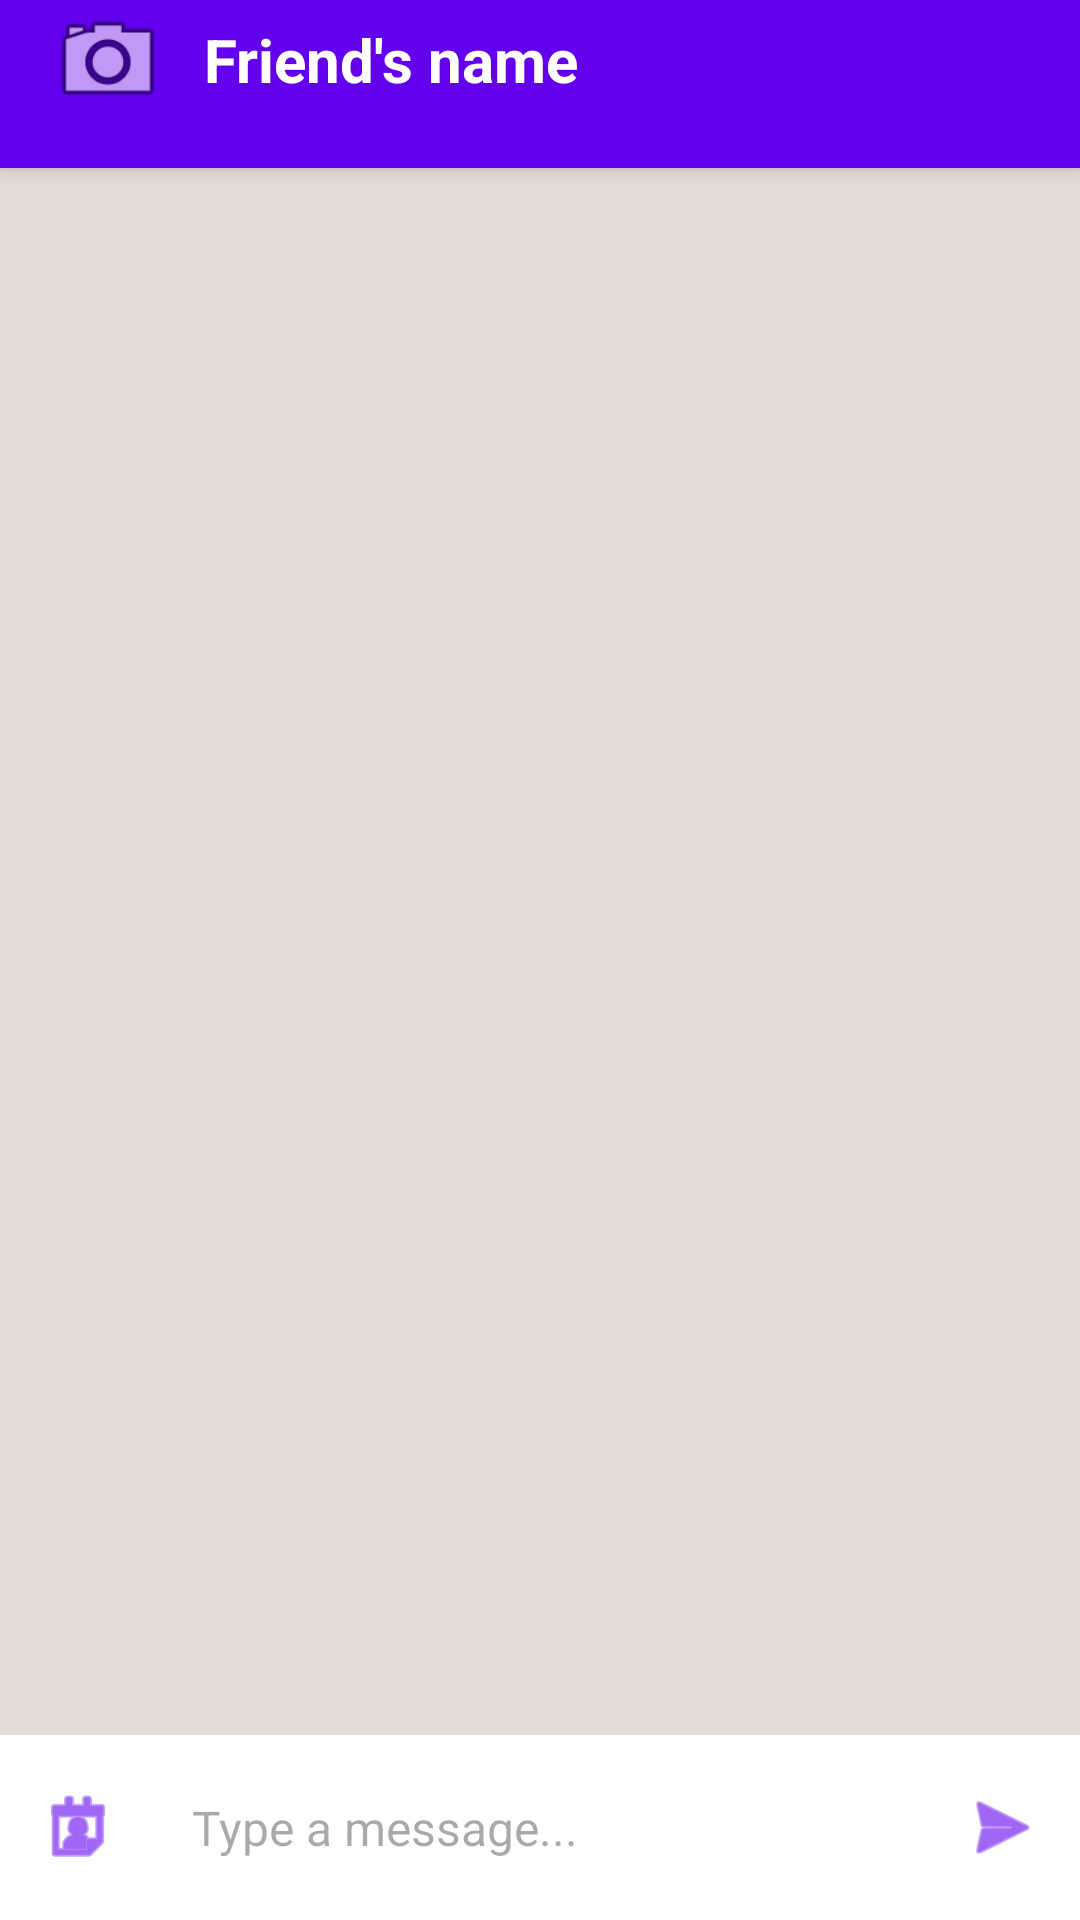

Named icons in this screenshot (1080w x 1920h) and their centers, (x,y):
calendar: (78,1826)
camera: (108,58)
send: (1003,1827)
